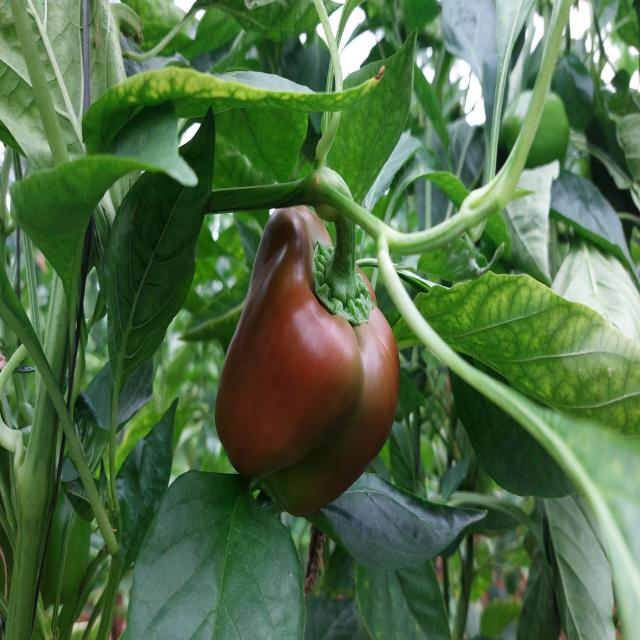BrownishRed--Can-be-Harvested: (209, 203, 408, 528)
